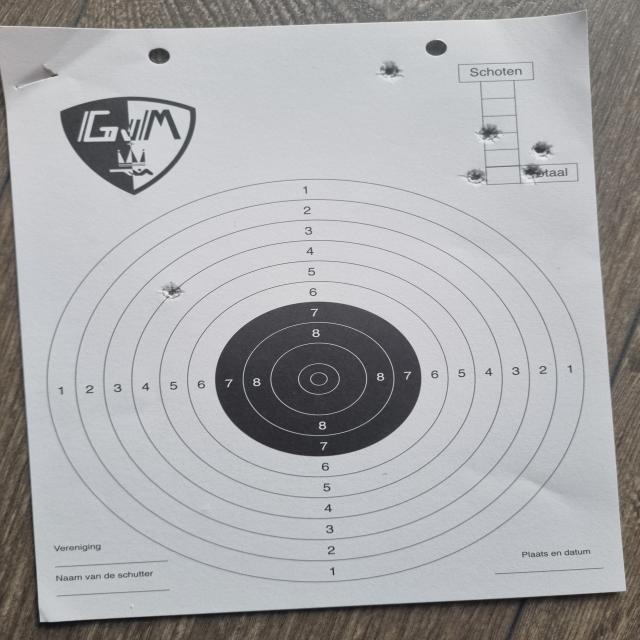6: (158, 282, 186, 298)
Black Contour: (214, 300, 422, 456)
Target: (48, 174, 588, 584)
hole: (474, 124, 504, 144), (456, 168, 488, 186), (520, 162, 544, 186), (530, 140, 555, 161), (377, 60, 404, 79)
